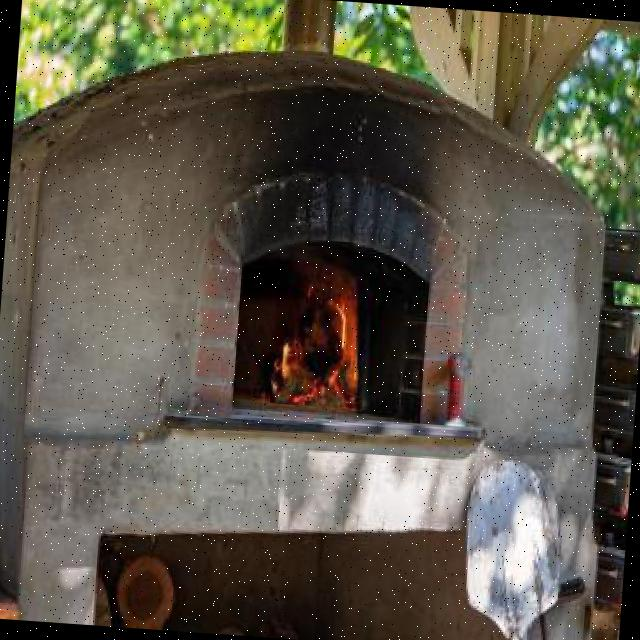fire: (270, 249, 386, 410)
